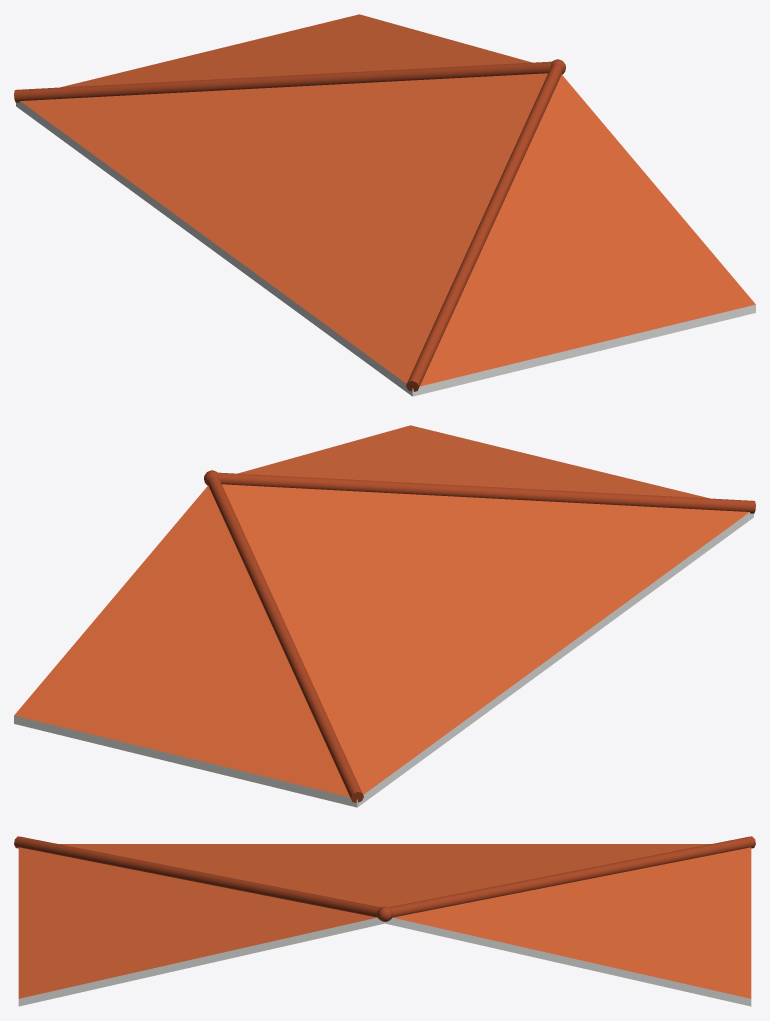
The model's file is telhado_quatro_aguas_ponta_v8_i25.glb.
The picture shows the model from 3 angles, top to bottom: view 1: azimuth 30°, elevation 25°; view 2: azimuth 150°, elevation 25°; view 3: azimuth 270°, elevation 25°; orthographic projection. The views are drawn at different scales.
Parts seen in each view (by area): view 1: telhado_quatro_aguas_ponta_v8_i25; view 2: telhado_quatro_aguas_ponta_v8_i25; view 3: telhado_quatro_aguas_ponta_v8_i25.
Part boxes in pixels (x1,y1,x2,y2): telhado_quatro_aguas_ponta_v8_i25: [14, 14, 755, 396]; telhado_quatro_aguas_ponta_v8_i25: [14, 425, 755, 807]; telhado_quatro_aguas_ponta_v8_i25: [14, 836, 755, 1006].
Size of the model in its own units: 4.13 by 1.2 by 8.1.
